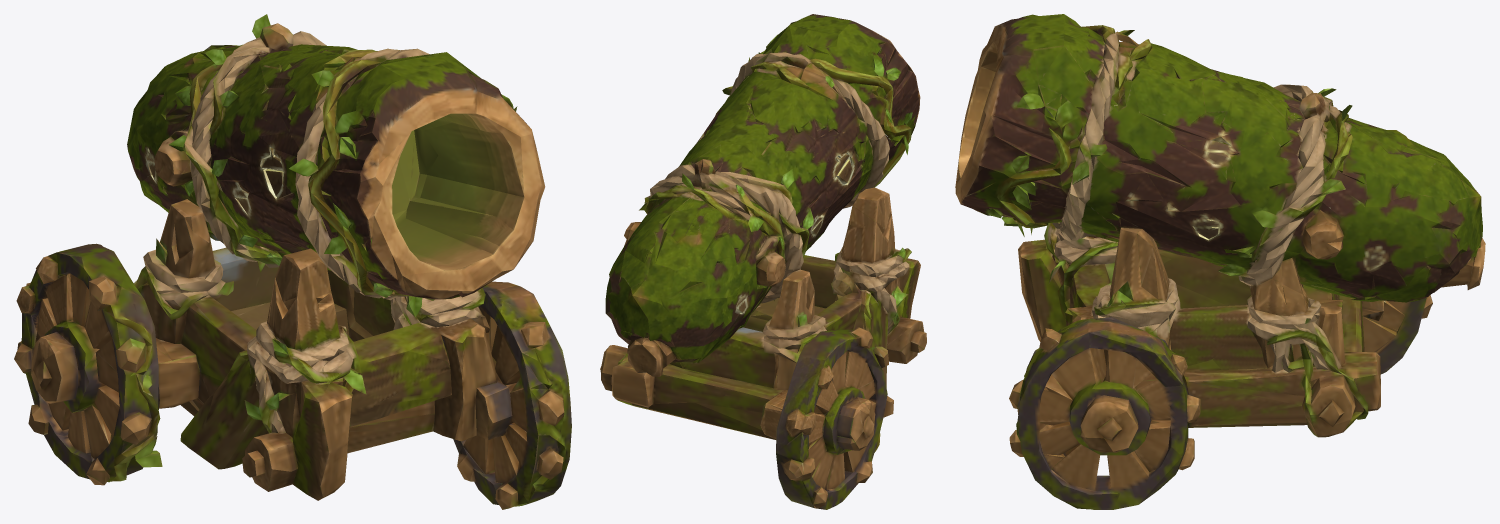
File: cannon-2.glb
The picture shows the model from 3 angles, left to right: view 1: azimuth 30°, elevation 25°; view 2: azimuth 150°, elevation 25°; view 3: azimuth 270°, elevation 25°; orthographic projection. The views are drawn at different scales.
Visible parts, largest first — view 1: output_unwrapped; view 2: output_unwrapped; view 3: output_unwrapped.
Part boxes in pixels (left/top/right/bottom): output_unwrapped: left=14, top=14, right=571, bottom=509; output_unwrapped: left=600, top=14, right=926, bottom=509; output_unwrapped: left=955, top=14, right=1485, bottom=509.
Size of the model in its own units: 1.45 by 1.69 by 1.9.
1 material, 1 textured.
